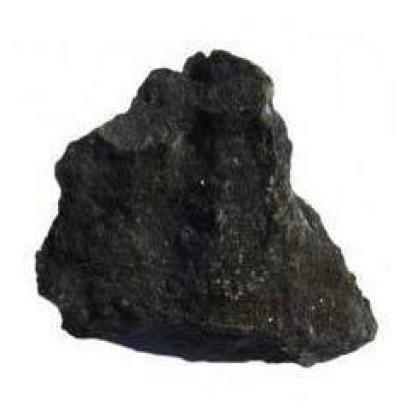Igneous_Basalt: (34, 43, 404, 370)
